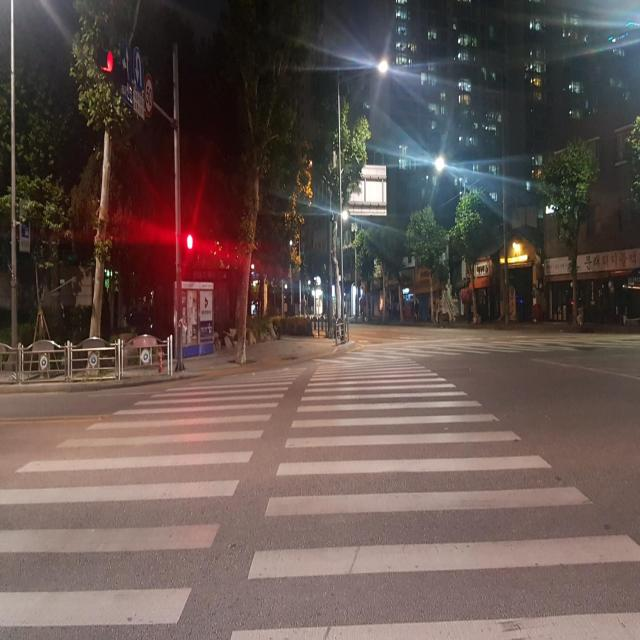빨간불: (184, 232, 195, 275)
횡단보도: (0, 356, 640, 640)
